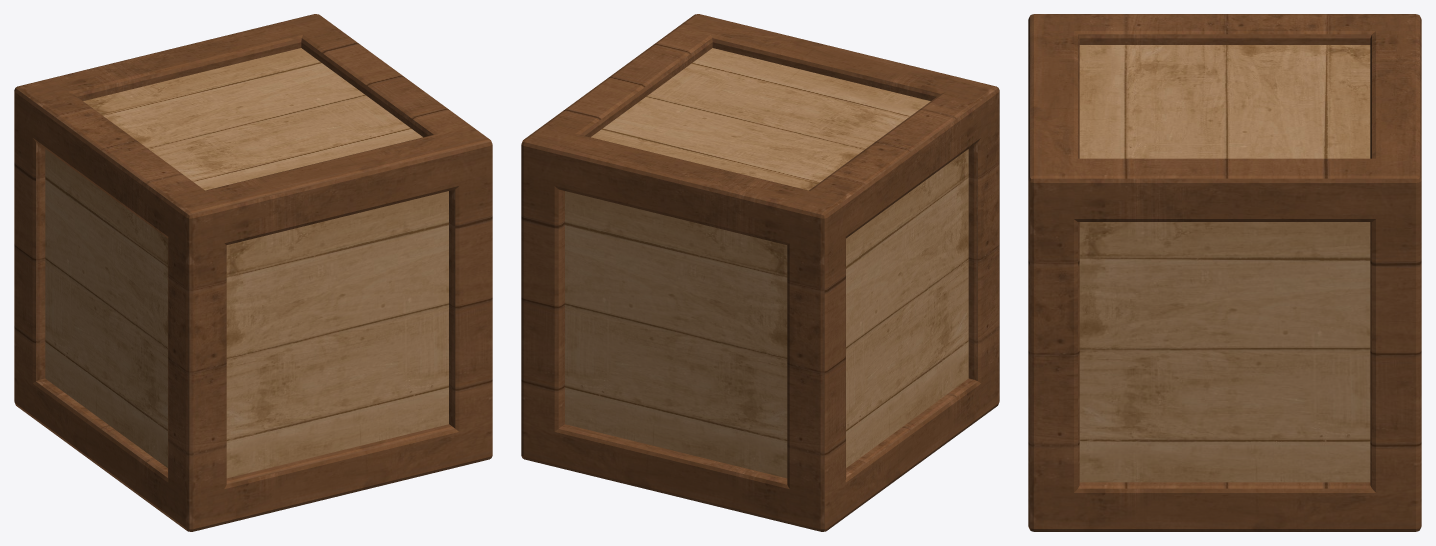
Rendered from crate.glb.
3 views of the same model, side by side, from view 1: azimuth 30°, elevation 25°; view 2: azimuth 150°, elevation 25°; view 3: azimuth 270°, elevation 25° (orthographic). The views are drawn at different scales.
Visible parts, largest first — view 1: Crate; view 2: Crate; view 3: Crate.
Boxes of the visible parts, x1,y1,x2,y2 form: Crate: [14, 14, 492, 531]; Crate: [521, 14, 999, 531]; Crate: [1028, 14, 1421, 531].
Size of the model in its own units: 0.56 by 0.56 by 0.56.
2 materials, 2 textured.
